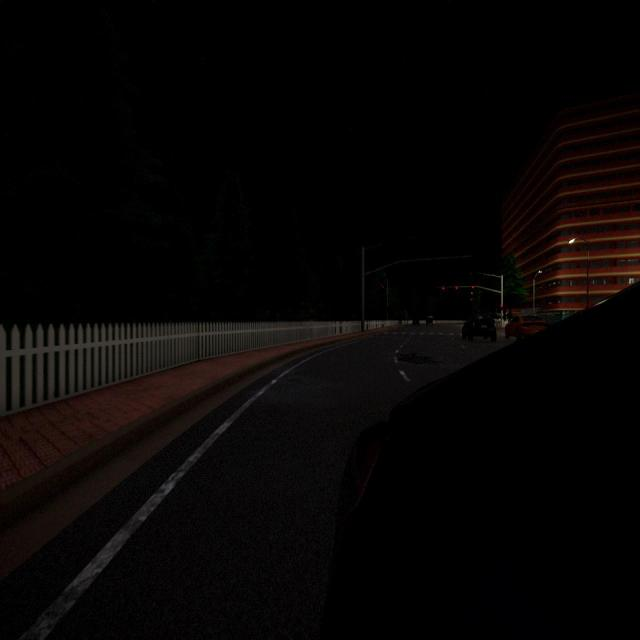Vehicle: (318, 277, 640, 640), (504, 312, 546, 340), (461, 314, 497, 342), (426, 316, 433, 326)
traffic_light: (500, 304, 503, 310), (472, 286, 474, 292), (455, 286, 458, 289), (442, 287, 444, 290)
